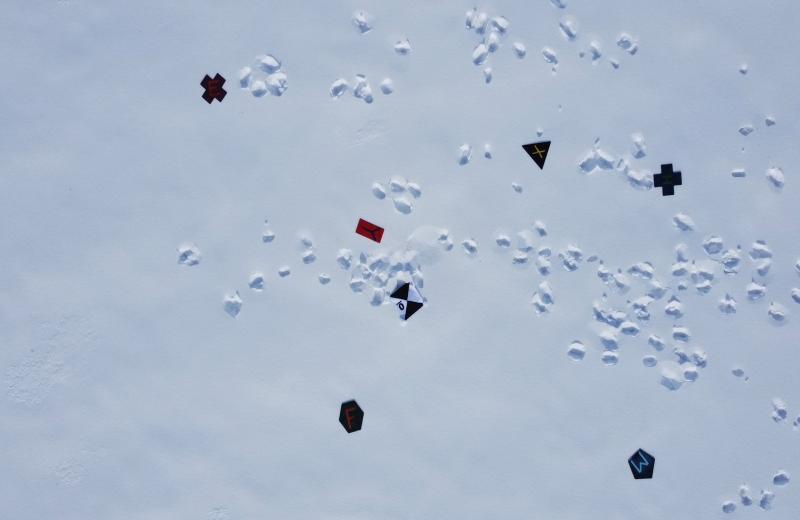Cross: (651, 158, 687, 200), (198, 67, 230, 109)
Hexagon: (337, 395, 366, 437)
Pentagon: (624, 444, 658, 485)
Rectangle: (352, 215, 388, 242)
Triangle: (521, 131, 553, 169)
